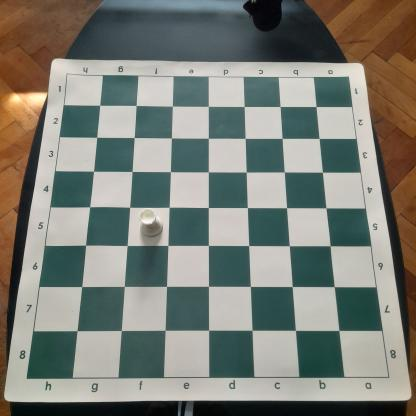white-rook: (138, 207, 165, 238)
